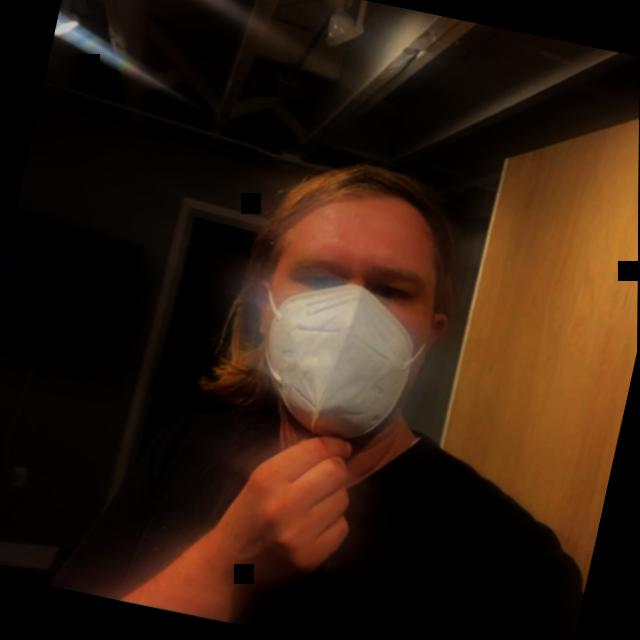Mask: (197, 130, 491, 478)
